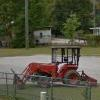Tractor: (13, 30, 89, 93)
